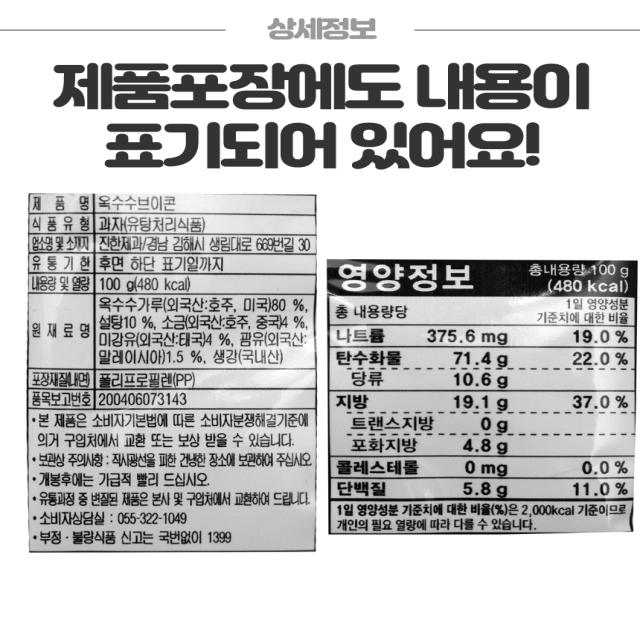Nutrition Label: (321, 255, 640, 539)
